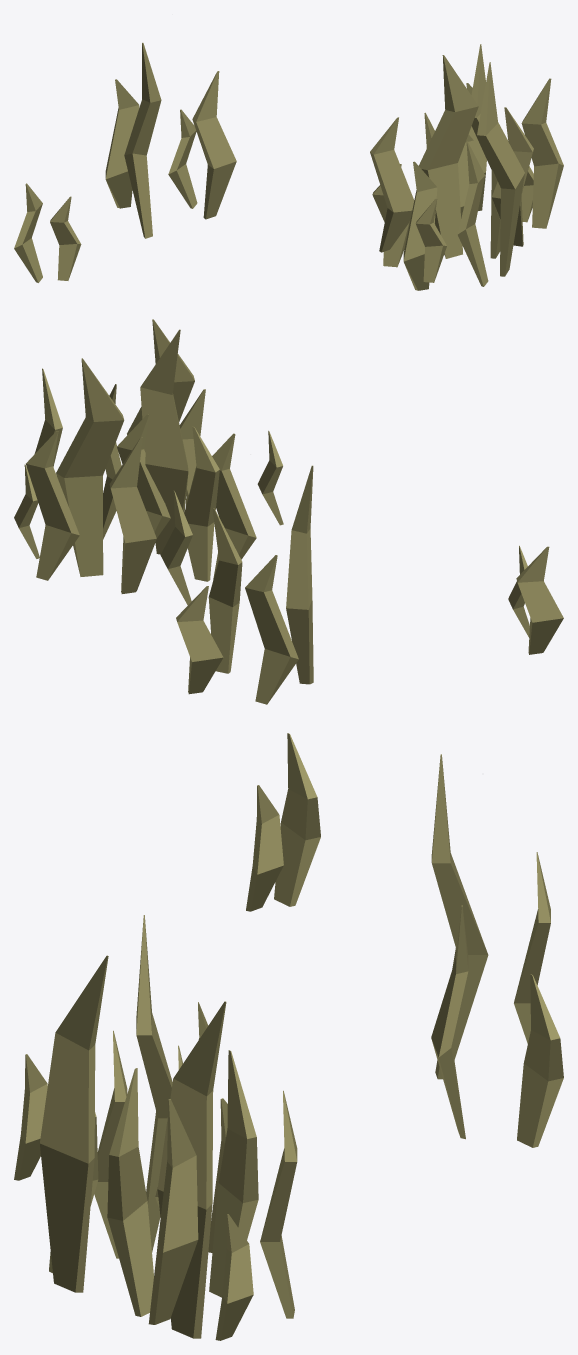
The model's file is grass.fbx.
3 renders of one model, top to bottom at view 1: azimuth 30°, elevation 25°; view 2: azimuth 150°, elevation 25°; view 3: azimuth 270°, elevation 25°, orthographic. The views are drawn at different scales.
Parts seen in each view (by area): view 1: Cube.019, Cube.016, Cube.017; view 2: Cube.019, Cube.016, Cube.017; view 3: Cube.019, Cube.016, Cube.017.
Part boxes in pixels (x1,y1,x2,y2): Cube.019: [370, 44, 563, 290]; Cube.016: [105, 14, 236, 238]; Cube.017: [14, 183, 81, 282]; Cube.019: [14, 319, 283, 605]; Cube.016: [176, 454, 313, 704]; Cube.017: [508, 545, 563, 654]; Cube.019: [14, 915, 297, 1340]; Cube.016: [431, 754, 563, 1147]; Cube.017: [246, 733, 320, 911].
Bounding box in the file's own units: 232 × 99.69 × 132.
